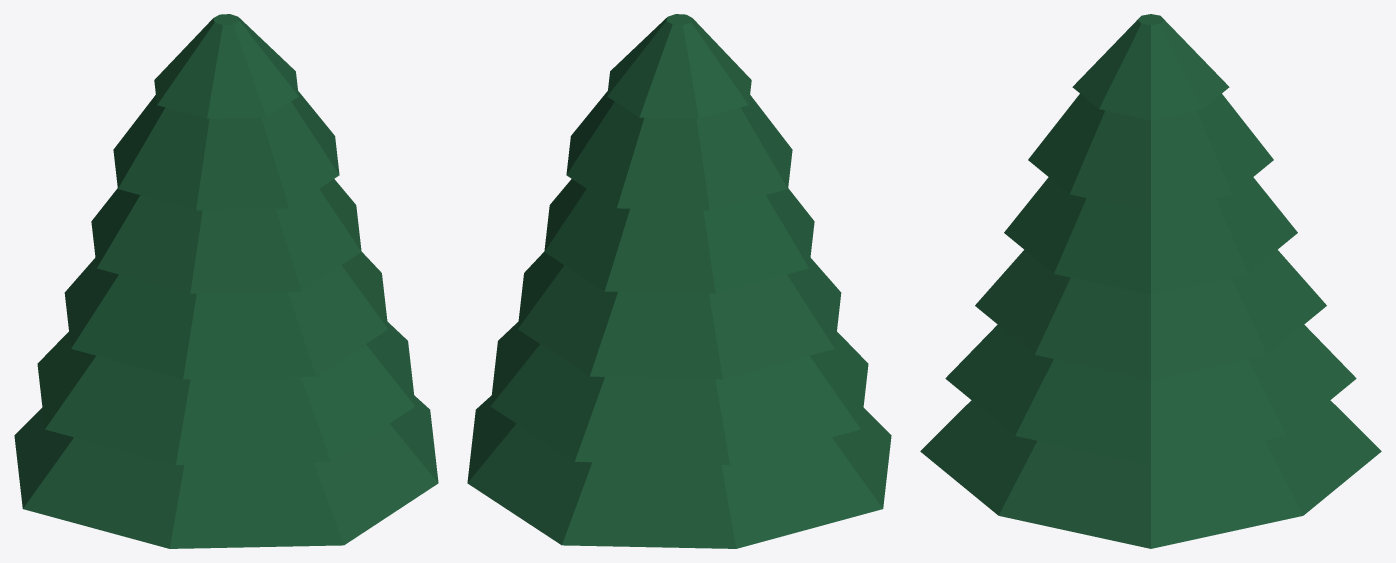
The model's file is Tree1, Short_Fat.fbx.
3 renders of one model, left to right at view 1: azimuth 30°, elevation 25°; view 2: azimuth 150°, elevation 25°; view 3: azimuth 270°, elevation 25°, orthographic.
Parts seen in each view (by area): view 1: Pine Tree; view 2: Pine Tree; view 3: Pine Tree.
Boxes of the visible parts, box(x1,y1,x2,y2) form: Pine Tree: box(14, 14, 438, 548); Pine Tree: box(467, 14, 891, 548); Pine Tree: box(920, 14, 1381, 548).
Size of the model in its own units: 206 by 239 by 206.
